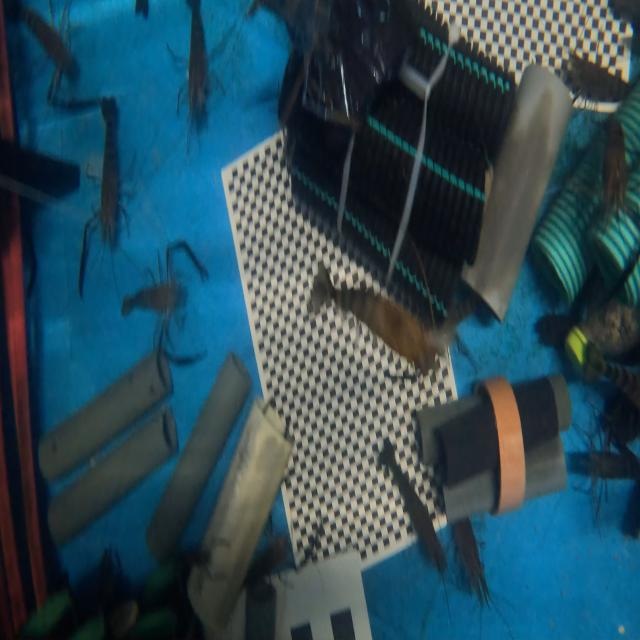prawn: (311, 267, 452, 371), (379, 441, 447, 572), (558, 57, 628, 112), (453, 517, 489, 604), (100, 97, 118, 246), (603, 116, 626, 216), (188, 0, 206, 126), (121, 280, 178, 315), (567, 450, 637, 478)
